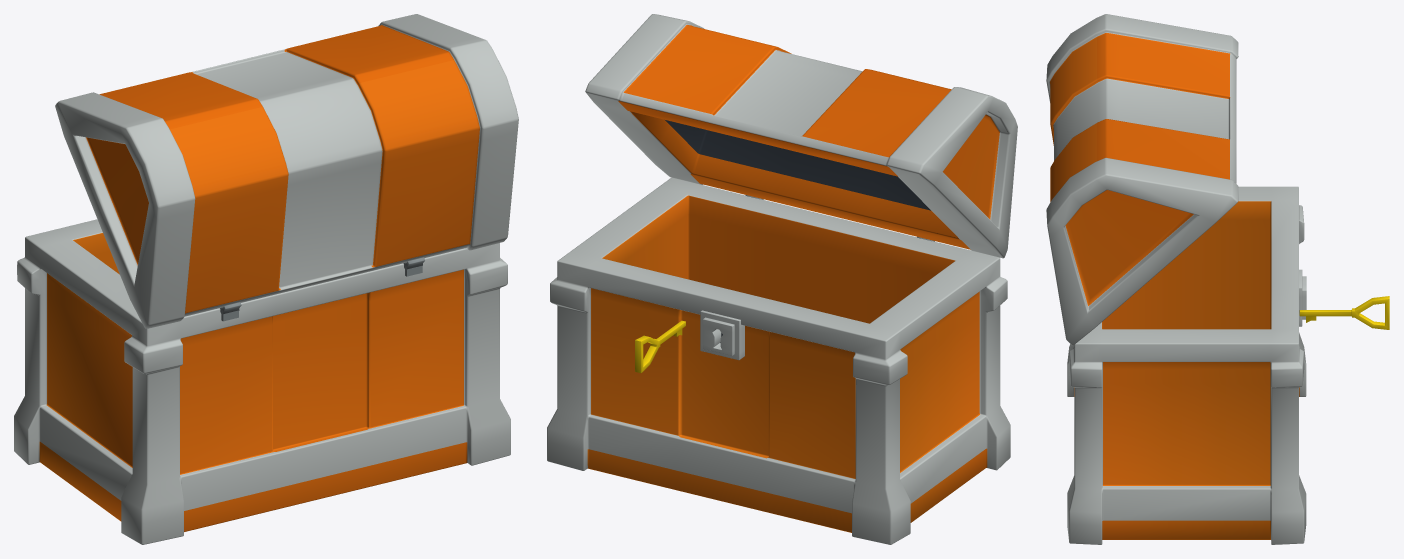
Rendered from Chest2WithKey.fbx.
3 renders of one model, left to right at view 1: azimuth 30°, elevation 25°; view 2: azimuth 150°, elevation 25°; view 3: azimuth 270°, elevation 25°, orthographic. The views are drawn at different scales.
Parts seen in each view (by area): view 1: ChestBody, ChestHead; view 2: ChestBody, ChestHead, Key; view 3: ChestBody, ChestHead, Key.
Boxes of the visible parts, box(x1,y1,x2,y2) form: ChestBody: box(14, 219, 510, 544); ChestHead: box(55, 14, 518, 328); ChestBody: box(547, 177, 1010, 544); ChestHead: box(585, 14, 1017, 258); Key: box(635, 320, 685, 373); ChestBody: box(1067, 186, 1306, 544); ChestHead: box(1046, 14, 1238, 345); Key: box(1299, 296, 1389, 329).
Bounding box in the file's own units: 397 × 406 × 343.
